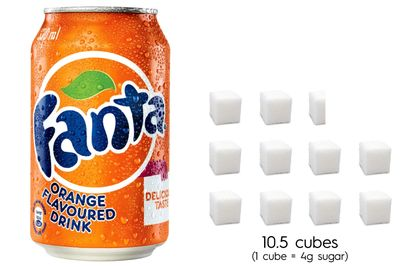Fanta: (29, 9, 169, 256)
